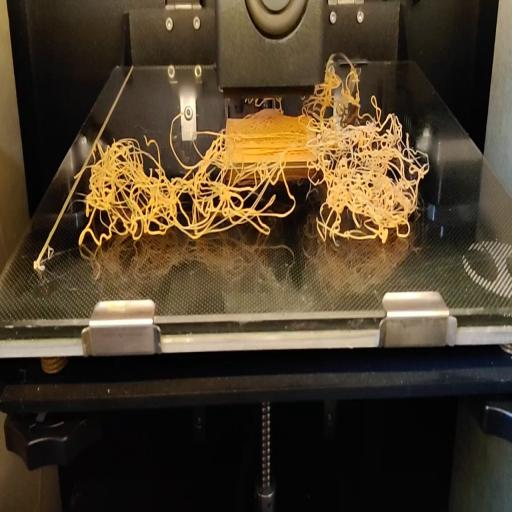spaghetti: (76, 106, 430, 258), (325, 50, 359, 102), (370, 94, 378, 108)
